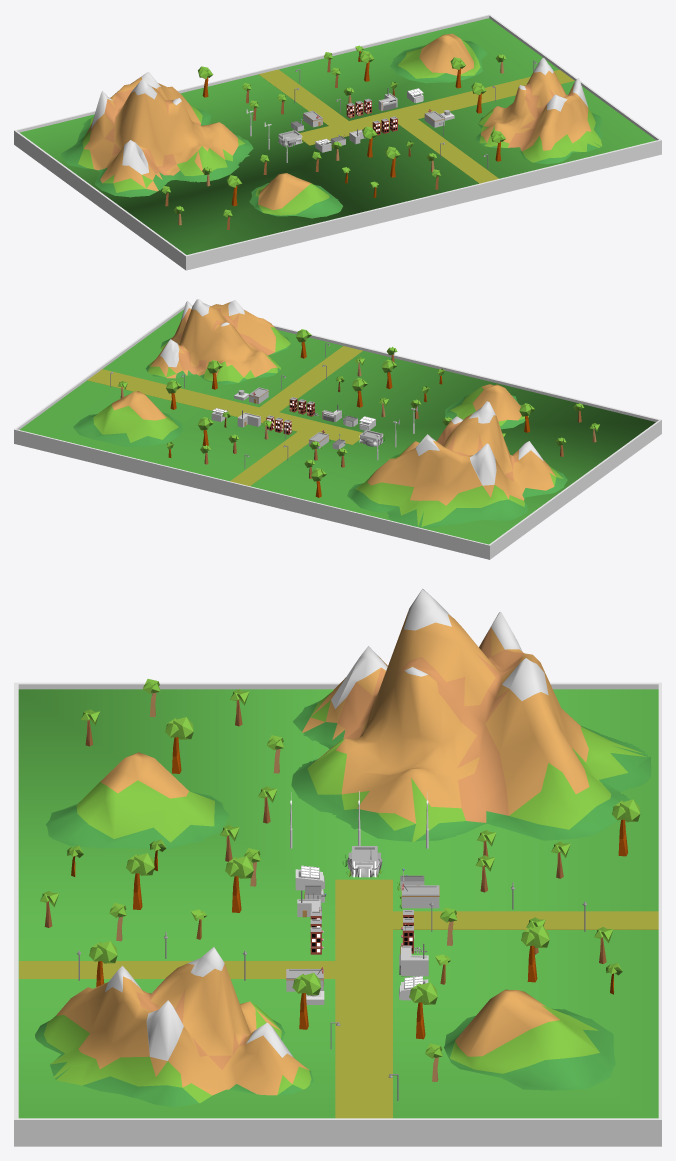
The model's file is stand.glb.
The picture shows the model from 3 angles, top to bottom: view 1: azimuth 30°, elevation 25°; view 2: azimuth 150°, elevation 25°; view 3: azimuth 270°, elevation 25°; orthographic projection. The views are drawn at different scales.
Parts seen in each view (by area): view 1: Основа, Декор.003, Дорога, Декор.004, Декор.001, Декор.002, Декор; view 2: Основа, Декор.003, Дорога, Декор.004, Декор.001, Декор.002, Декор, Cube.001; view 3: Основа, Декор.003, Дорога, Декор.004, Декор.001, Декор.002, Декор, Подстанция, Больница 2, Завод.
Boxes of the visible parts, <box> form: Основа: <box>14,14,661,270</box>; Декор.003: <box>61,33,602,218</box>; Дорога: <box>259,69,574,183</box>; Декор.004: <box>162,126,440,229</box>; Декор.001: <box>324,45,506,103</box>; Декор.002: <box>198,66,286,120</box>; Декор: <box>471,82,505,161</box>; Основа: <box>14,304,661,559</box>; Декор.003: <box>73,299,567,527</box>; Дорога: <box>87,346,362,485</box>; Декор.004: <box>336,347,599,456</box>; Декор.001: <box>118,380,272,464</box>; Декор.002: <box>304,441,347,497</box>; Декор: <box>207,329,311,389</box>; Cube.001: <box>289,397,320,416</box>; Основа: <box>14,682,661,1146</box>; Декор.003: <box>35,588,651,1107</box>; Дорога: <box>19,879,658,1118</box>; Декор.004: <box>40,679,284,941</box>; Декор.001: <box>409,907,622,1081</box>; Декор.002: <box>475,799,640,892</box>; Декор: <box>89,940,320,1029</box>; Подстанция: <box>347,846,382,877</box>; Больница 2: <box>401,883,439,908</box>; Завод: <box>399,943,428,976</box>.
Size of the model in its own units: 380 by 73.24 by 238.
